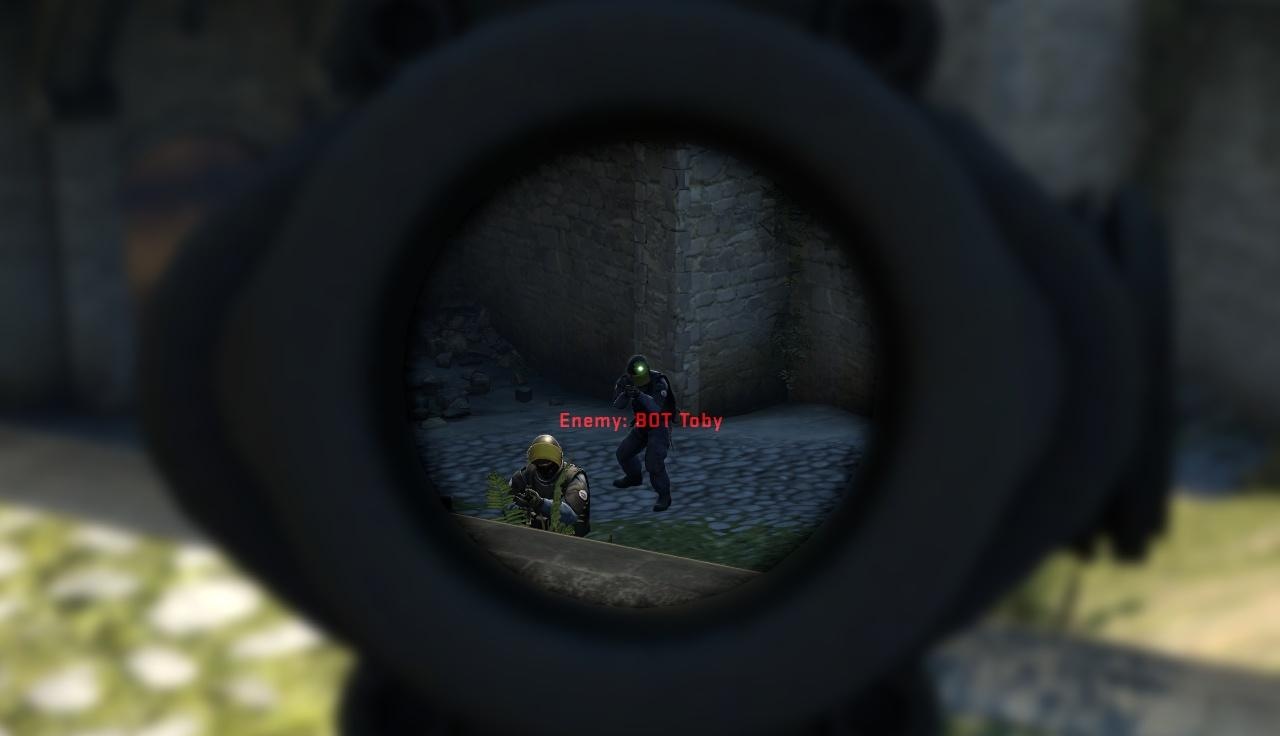ct: (618, 353, 676, 509), (517, 435, 589, 536)
cthead: (532, 436, 565, 475), (628, 355, 651, 385)
